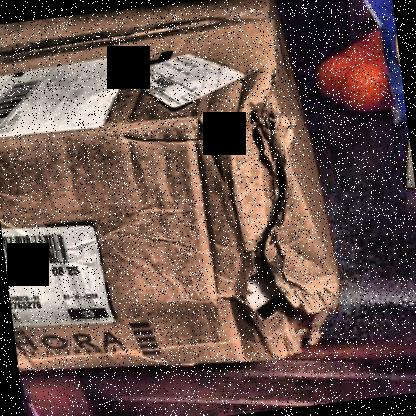no defect parcel: (194, 35, 395, 371)
